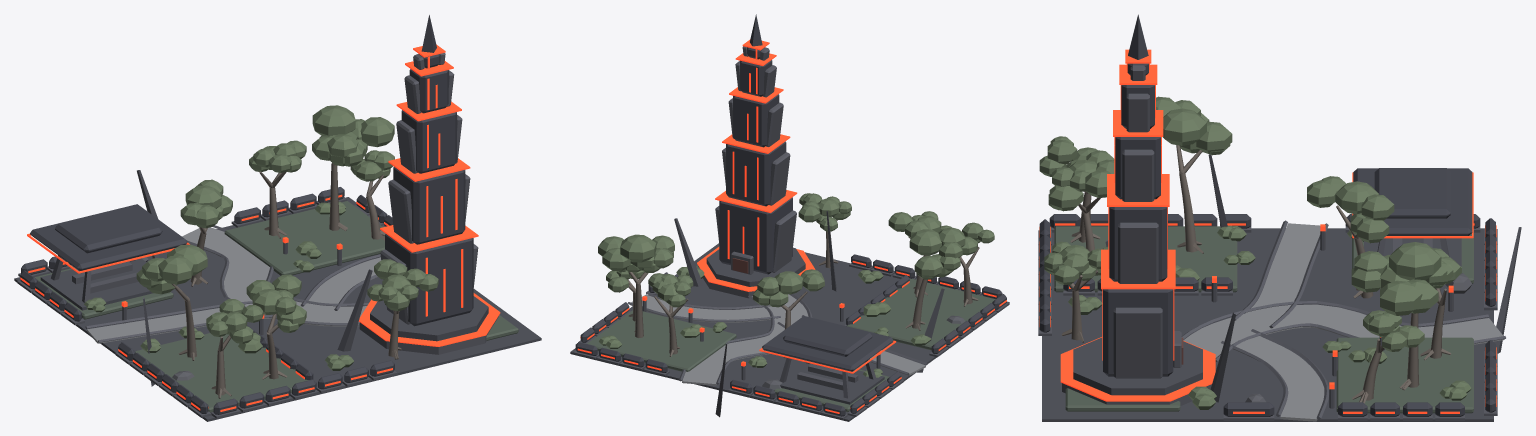
The model's file is park.glb.
The picture shows the model from 3 angles, left to right: view 1: azimuth 30°, elevation 25°; view 2: azimuth 150°, elevation 25°; view 3: azimuth 270°, elevation 25°; orthographic projection. The views are drawn at different scales.
Visible parts, largest first — view 1: park, detail; view 2: park, detail; view 3: park, detail.
Boxes of the visible parts, x1,y1,x2,y2 form: park: (14, 15, 541, 421); detail: (20, 44, 478, 411); park: (570, 14, 1009, 421); detail: (577, 39, 1006, 413); park: (1038, 14, 1521, 421); detail: (1039, 49, 1505, 419).
Bounding box in the file's own units: 30.49 × 29.06 × 31.68.
